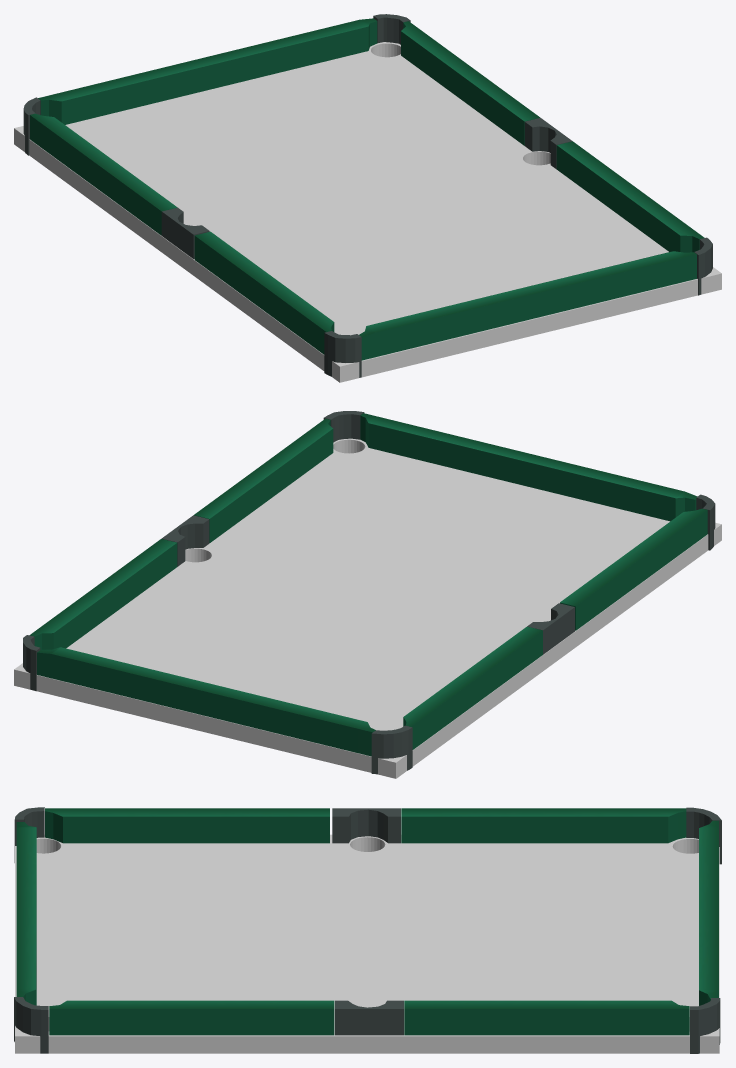
File: sinuca01.dae
The picture shows the model from 3 angles, top to bottom: view 1: azimuth 30°, elevation 25°; view 2: azimuth 150°, elevation 25°; view 3: azimuth 270°, elevation 25°; orthographic projection. The views are drawn at different scales.
Parts seen in each view (by area): view 1: Cubo_001, Cube_004, Cube_001, Cube_003, Cube_002, Cube_005, Cube, Cubo_006, Cubo_003, Cubo_004, Cubo, Cubo_005; view 2: Cubo_001, Cube_001, Cube_004, Cube_005, Cube, Cube_002, Cube_003, Cubo_002, Cubo_004, Cubo_003, Cubo_005, Cubo; view 3: Cubo_001, Cube_002, Cube, Cube_003, Cube_005, Cube_004, Cube_001, Cubo_004, Cubo_003, Cubo_005, Cubo, Cubo_002 (+1 smaller).
Boxes of the visible parts, x1=… form: Cubo_001: x1=14, y1=42, x2=721, y2=382; Cube_004: x1=359, y1=251, x2=696, y2=360; Cube_001: x1=38, y1=18, x2=377, y2=124; Cube_003: x1=556, y1=141, x2=704, y2=252; Cube_002: x1=30, y1=113, x2=177, y2=235; Cube_005: x1=194, y1=231, x2=334, y2=354; Cube: x1=401, y1=21, x2=540, y2=145; Cubo_006: x1=324, y1=331, x2=361, y2=377; Cubo_003: x1=161, y1=207, x2=209, y2=258; Cubo_004: x1=524, y1=118, x2=572, y2=169; Cubo: x1=373, y1=14, x2=410, y2=44; Cubo_005: x1=694, y1=237, x2=712, y2=295; Cubo_001: x1=14, y1=438, x2=721, y2=778; Cube_001: x1=37, y1=647, x2=375, y2=756; Cube_004: x1=360, y1=413, x2=697, y2=521; Cube_005: x1=560, y1=508, x2=707, y2=630; Cube: x1=29, y1=539, x2=177, y2=649; Cube_002: x1=403, y1=626, x2=542, y2=749; Cube_003: x1=194, y1=418, x2=333, y2=543; Cubo_002: x1=371, y1=725, x2=412, y2=774; Cubo_004: x1=161, y1=515, x2=209, y2=566; Cubo_003: x1=527, y1=603, x2=574, y2=654; Cubo_005: x1=323, y1=411, x2=364, y2=442; Cubo: x1=23, y1=635, x2=40, y2=690; Cubo_001: x1=15, y1=834, x2=719, y2=1053; Cube_002: x1=401, y1=808, x2=686, y2=843; Cube: x1=404, y1=1000, x2=689, y2=1035; Cube_003: x1=49, y1=1000, x2=334, y2=1035; Cube_005: x1=45, y1=808, x2=329, y2=843; Cube_004: x1=16, y1=822, x2=36, y2=1005; Cube_001: x1=699, y1=820, x2=718, y2=1005; Cubo_004: x1=335, y1=1000, x2=403, y2=1035; Cubo_003: x1=332, y1=808, x2=400, y2=843; Cubo_005: x1=14, y1=997, x2=48, y2=1053; Cubo: x1=690, y1=998, x2=720, y2=1053; Cubo_002: x1=686, y1=807, x2=721, y2=864.
Bounding box in the file's own units: 9.95 × 14.67 × 1.
